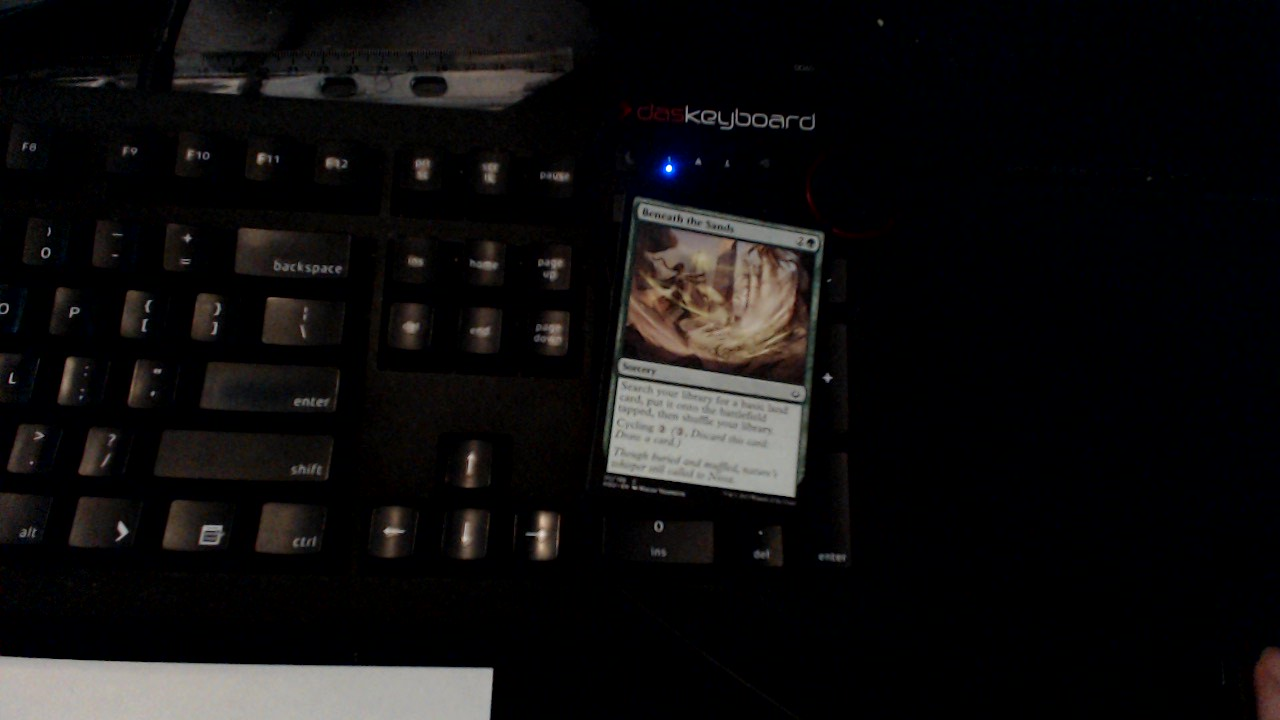MTG Card: (584, 187, 831, 525)
